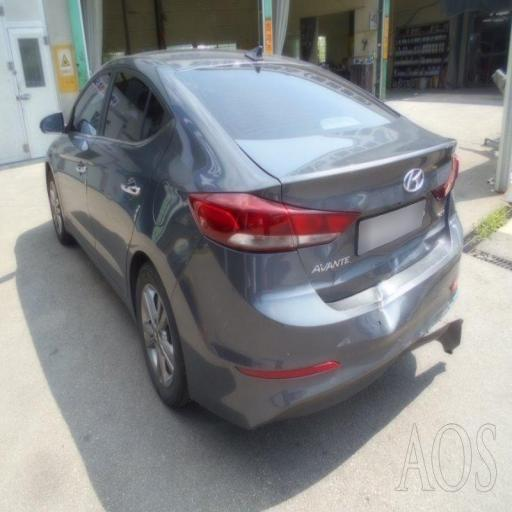scratch: (136, 148, 206, 296)
